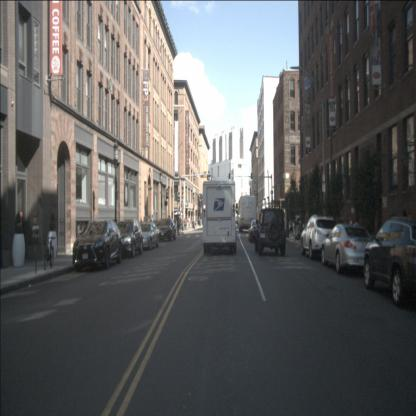human-pedestrian-adult: (289, 218, 293, 240), (184, 217, 186, 230)
vehicle-bicycle: (44, 237, 57, 271)
vehicle-car: (364, 215, 415, 305), (72, 218, 122, 272), (322, 223, 374, 272), (300, 214, 340, 260), (252, 207, 286, 256), (110, 218, 143, 258), (136, 221, 160, 250), (156, 217, 176, 242), (248, 218, 264, 243)
vehicle-truck: (202, 180, 237, 255), (238, 195, 258, 233)
